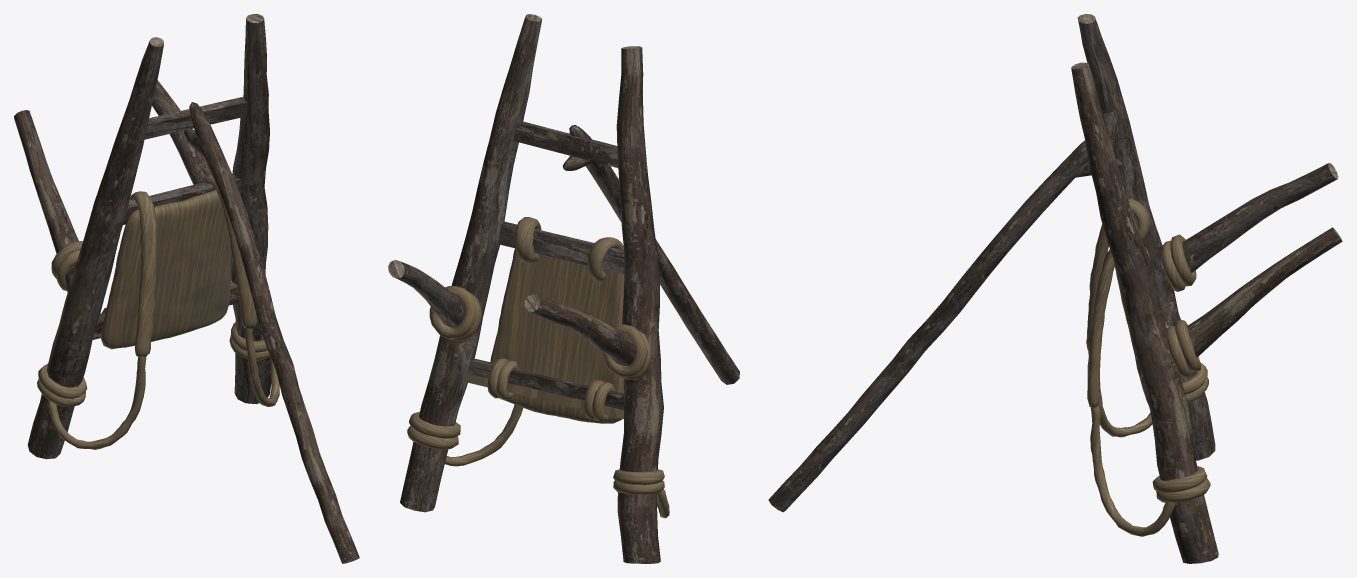
The model's file is jige.glb.
The picture shows the model from 3 angles, left to right: view 1: azimuth 30°, elevation 25°; view 2: azimuth 150°, elevation 25°; view 3: azimuth 270°, elevation 25°; orthographic projection. The views are drawn at different scales.
Visible parts, largest first — view 1: A_frame_Carrier01a_A_frame_Carrier01a_0; view 2: A_frame_Carrier01a_A_frame_Carrier01a_0; view 3: A_frame_Carrier01a_A_frame_Carrier01a_0.
Part boxes in pixels (<box>): A_frame_Carrier01a_A_frame_Carrier01a_0: <box>14,14,359,563</box>; A_frame_Carrier01a_A_frame_Carrier01a_0: <box>388,14,739,563</box>; A_frame_Carrier01a_A_frame_Carrier01a_0: <box>768,14,1342,563</box>.
Size of the model in its own units: 0.5774 by 1.01 by 1.11.
Materials: 1 (1 with a texture image).
